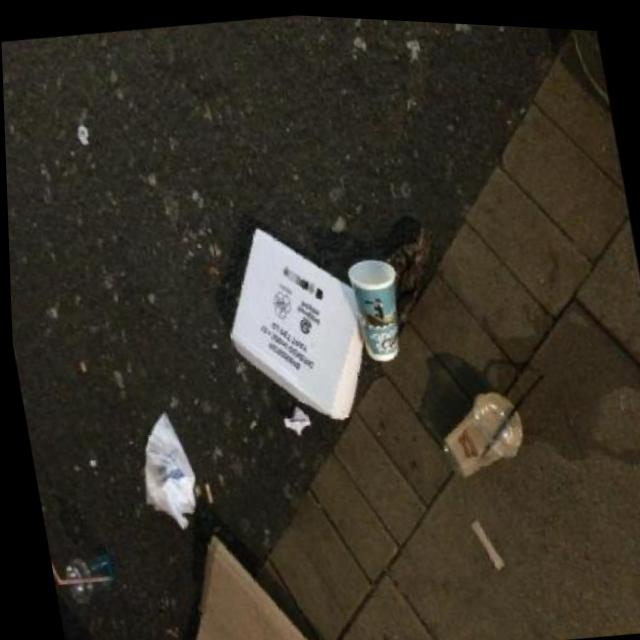cardboard: (213, 214, 382, 437), (347, 255, 414, 367)
plastic: (434, 369, 564, 485), (131, 407, 206, 536), (52, 546, 123, 609)
